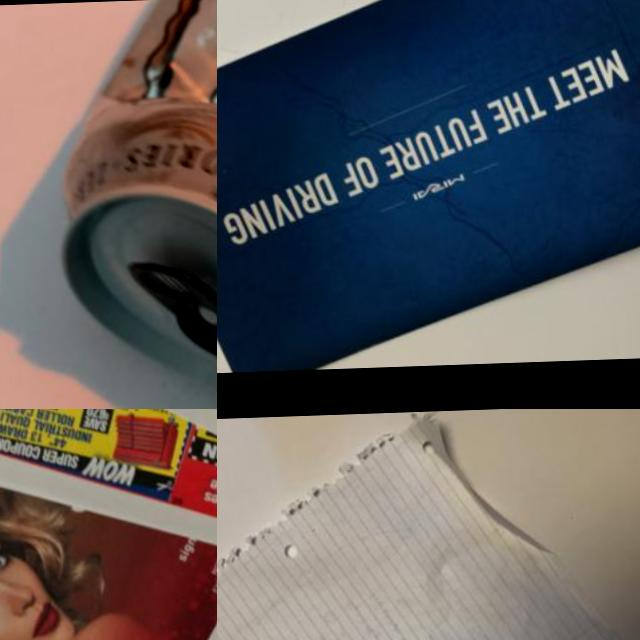aba de lata: (121, 249, 217, 354)
lata: (51, 0, 217, 409)
papel: (217, 0, 640, 373), (217, 409, 634, 640), (0, 409, 217, 640)
